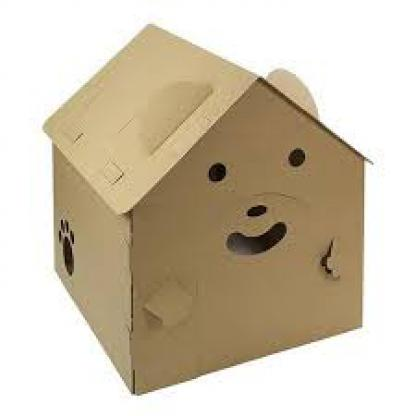CARDBOARD: (41, 20, 370, 394)
